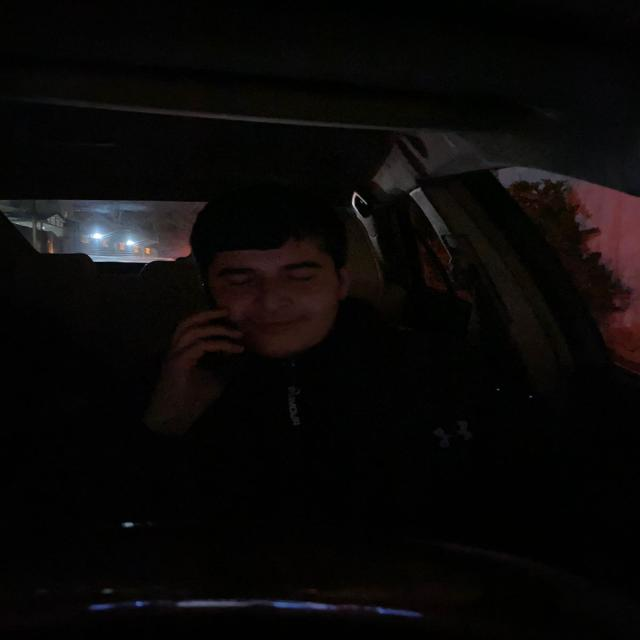phone: (187, 279, 226, 370)
